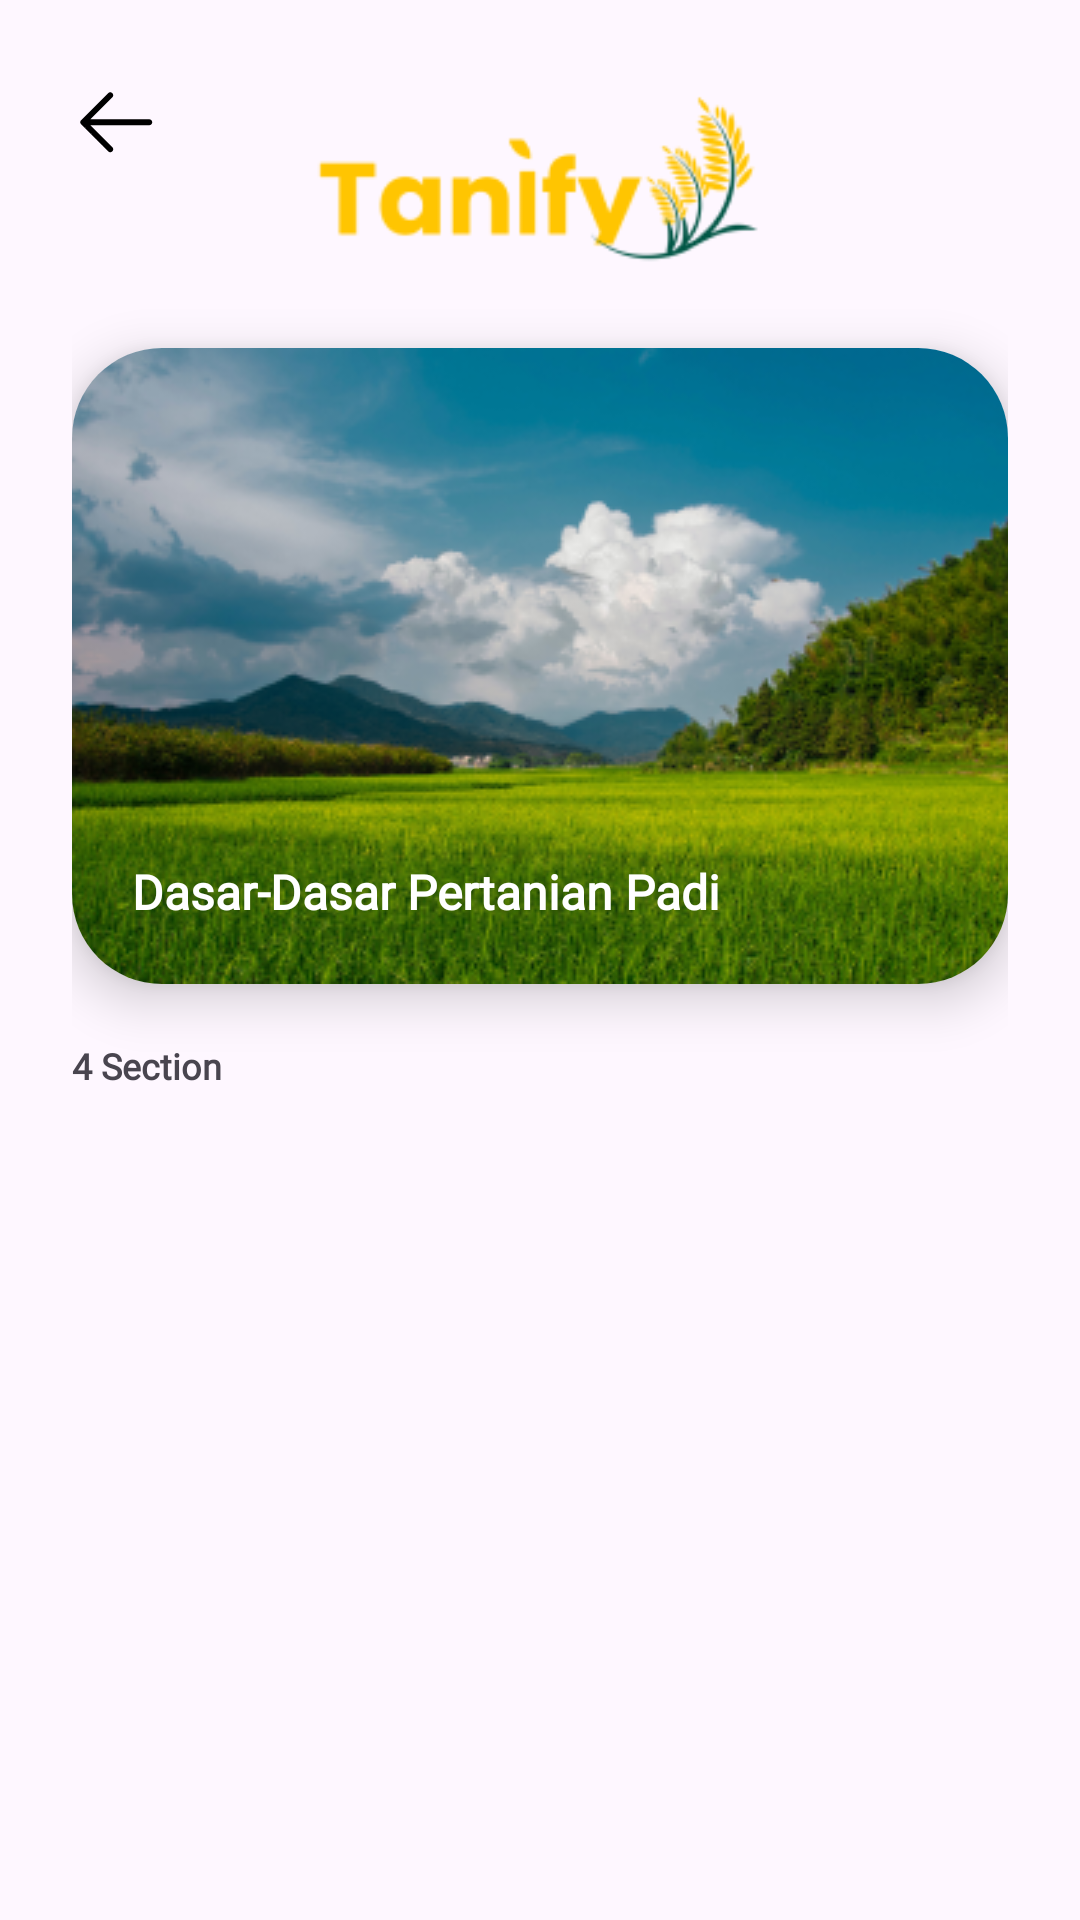

Locate icon controls on the screen. Image size 1080px×1920px, boxes as (x1, y1, x2, y2).
left arrow: (80, 92, 153, 153)
